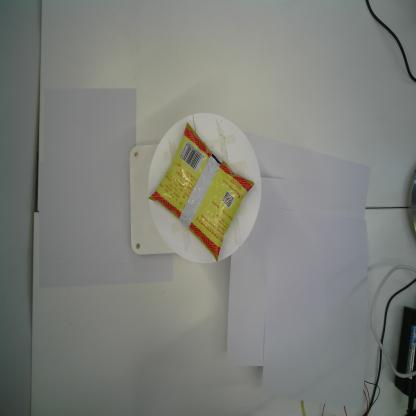Seasoner: (148, 121, 255, 263)
